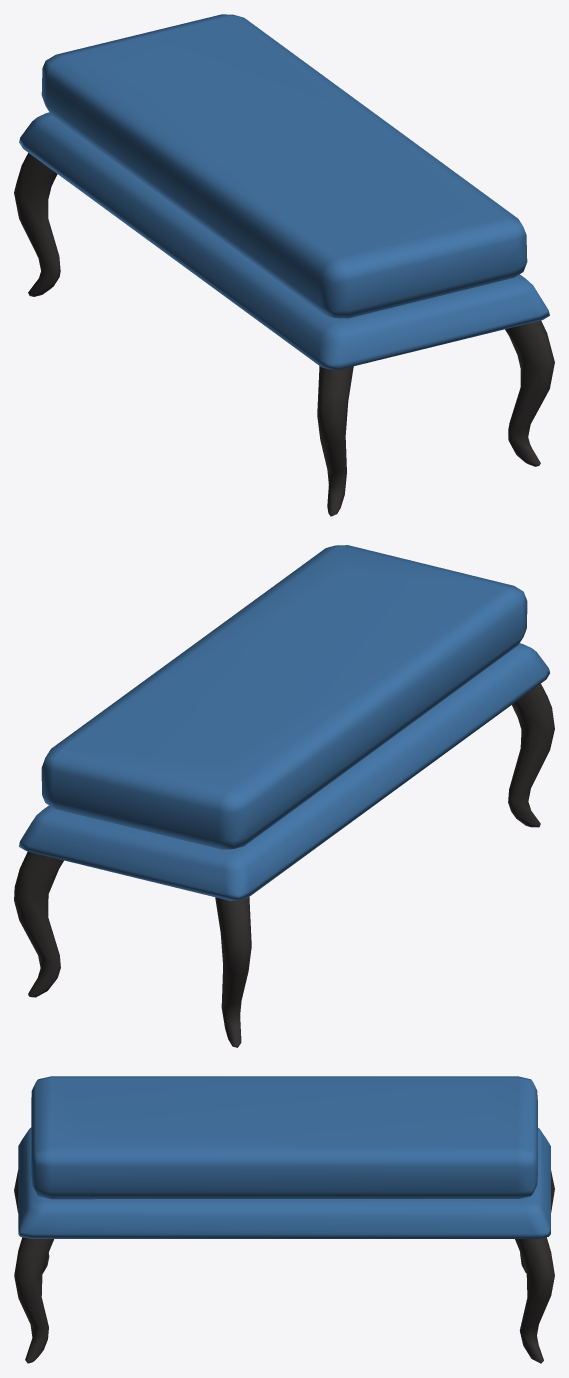
The model's file is footstool_01_blue.fbx.
3 renders of one model, top to bottom at view 1: azimuth 30°, elevation 25°; view 2: azimuth 150°, elevation 25°; view 3: azimuth 270°, elevation 25°, orthographic. The views are drawn at different scales.
Parts seen in each view (by area): view 1: footstool_01_blue; view 2: footstool_01_blue; view 3: footstool_01_blue.
Part boxes in pixels (bbox=[...]): footstool_01_blue: bbox=[14, 14, 554, 516]; footstool_01_blue: bbox=[14, 545, 554, 1047]; footstool_01_blue: bbox=[14, 1076, 554, 1363].
Bounding box in the file's own units: 46.53 × 46.52 × 109.
2 materials, 2 textured.
